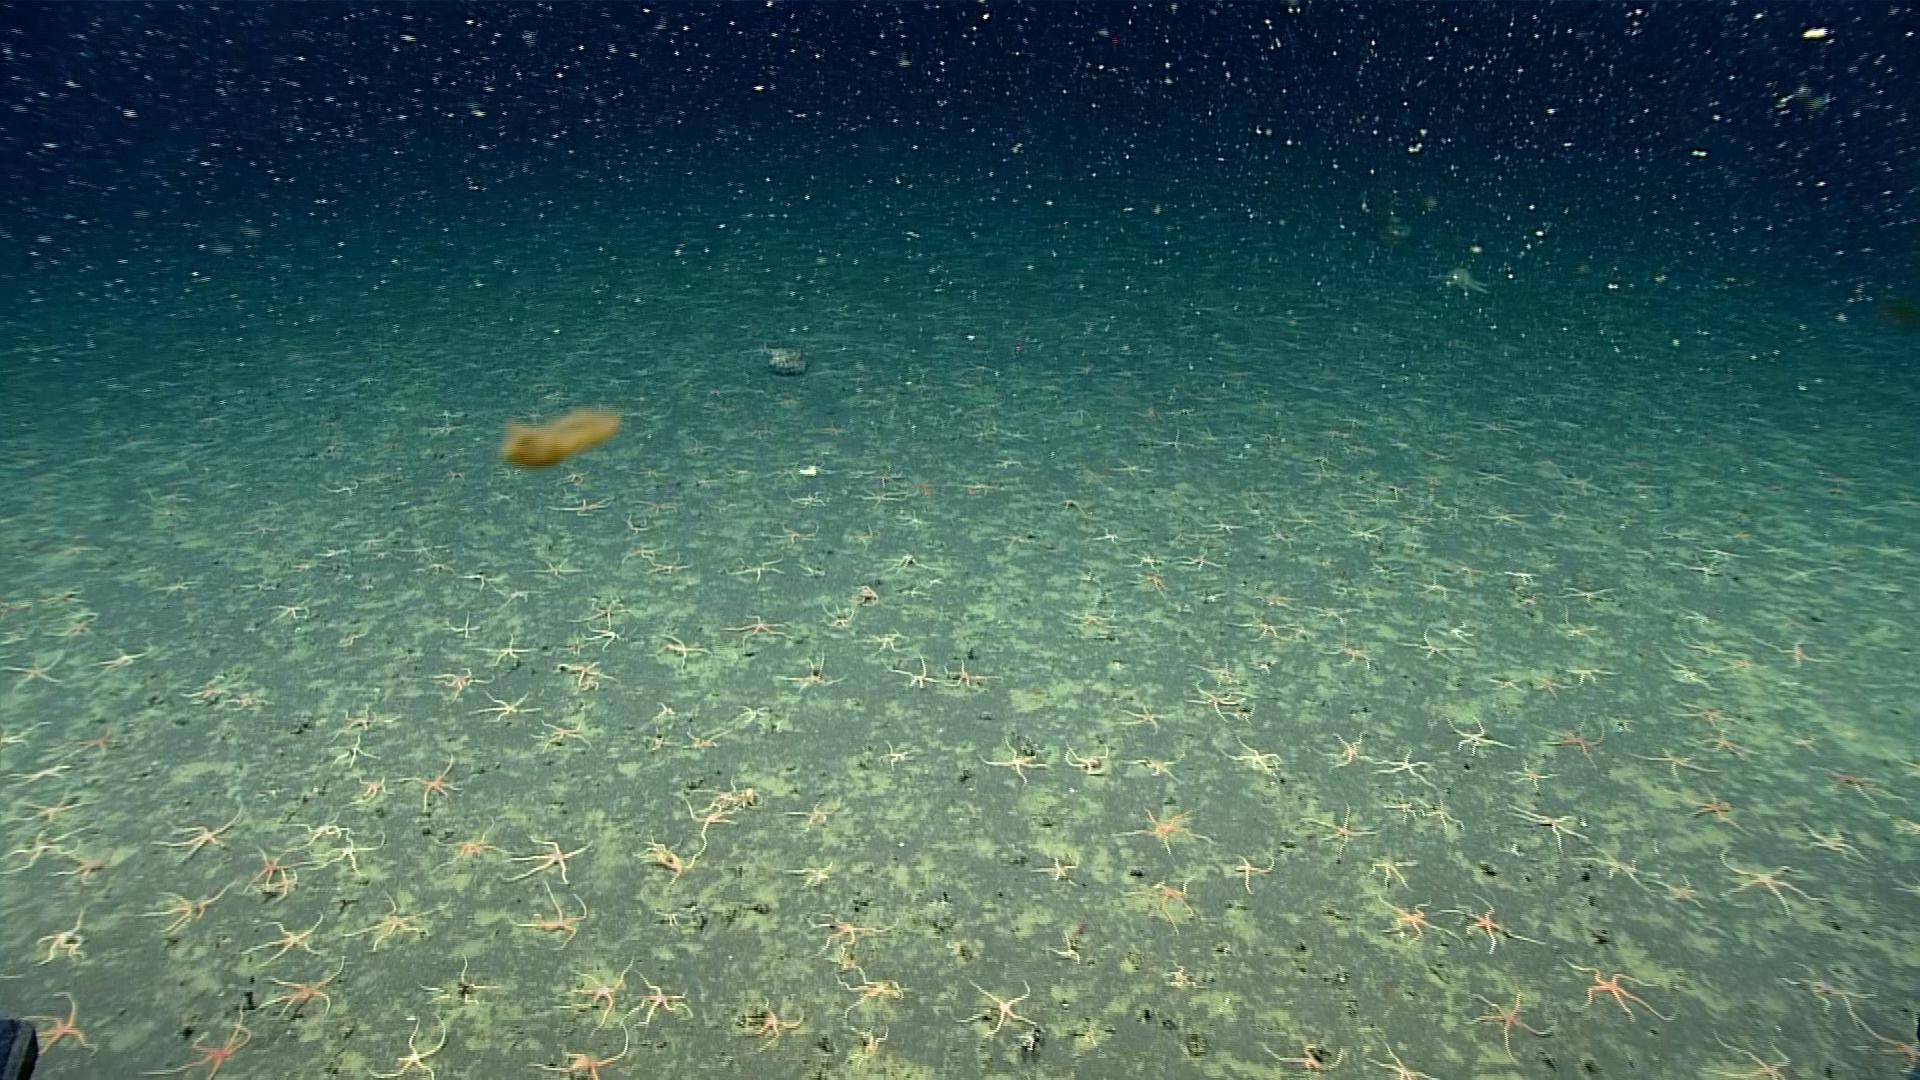brittle_sea_star: (148, 997, 253, 1079), (1714, 847, 1826, 916), (551, 951, 636, 1035), (1436, 894, 1543, 955), (136, 874, 236, 939), (1567, 959, 1665, 1022), (1465, 990, 1551, 1060), (340, 895, 451, 949), (257, 956, 347, 1019), (243, 909, 330, 972), (1106, 802, 1213, 853), (24, 986, 99, 1059), (509, 884, 587, 953), (948, 976, 1039, 1035), (1375, 893, 1465, 949), (376, 1010, 450, 1079), (534, 1027, 630, 1079), (152, 808, 239, 865), (1789, 973, 1880, 1027), (795, 907, 891, 956), (393, 753, 468, 815), (622, 968, 695, 1031), (4, 827, 95, 877), (502, 832, 591, 884), (1673, 781, 1754, 836), (1705, 1030, 1795, 1079), (1577, 837, 1658, 891), (1507, 803, 1593, 852), (427, 819, 502, 874), (417, 956, 500, 1006), (1298, 803, 1378, 853), (1142, 870, 1205, 934), (1845, 1015, 1919, 1069), (833, 967, 910, 1015), (678, 795, 741, 853), (736, 998, 803, 1051), (984, 735, 1051, 787), (629, 829, 692, 885), (1625, 744, 1718, 781), (34, 907, 94, 965), (1812, 760, 1890, 803), (4, 791, 91, 825), (241, 843, 295, 897), (310, 832, 384, 872), (1395, 624, 1466, 665), (1539, 719, 1604, 764), (1307, 729, 1374, 771), (1369, 742, 1436, 785), (1803, 822, 1866, 866), (1, 650, 70, 691), (1259, 1035, 1341, 1069), (1665, 695, 1741, 732), (1759, 634, 1834, 671), (1443, 715, 1511, 754), (771, 654, 844, 691), (1216, 736, 1286, 774), (723, 611, 794, 647), (1360, 849, 1423, 890), (1370, 1039, 1429, 1079), (476, 633, 542, 669), (1191, 680, 1244, 723), (653, 632, 711, 670), (471, 691, 538, 724), (1695, 727, 1756, 762), (533, 712, 592, 748), (703, 778, 764, 812), (553, 659, 617, 691), (844, 1019, 887, 1065), (427, 666, 491, 698), (1497, 758, 1557, 791), (293, 808, 340, 849), (1192, 653, 1249, 686), (1419, 796, 1466, 835), (1122, 749, 1184, 778), (570, 595, 626, 626), (939, 654, 989, 690), (1228, 613, 1288, 642), (1030, 853, 1083, 886), (1551, 613, 1602, 646), (53, 851, 108, 881), (891, 654, 936, 691), (1230, 856, 1275, 893), (786, 860, 836, 893), (1651, 872, 1701, 905), (728, 554, 782, 583), (1058, 604, 1117, 630), (92, 645, 145, 674), (1117, 700, 1164, 732), (327, 736, 376, 766), (1062, 742, 1108, 774), (578, 612, 628, 641), (1408, 575, 1460, 603), (182, 680, 233, 708), (1328, 636, 1369, 670), (1866, 804, 1919, 831), (758, 524, 816, 547), (11, 762, 75, 783), (336, 705, 388, 732), (545, 496, 612, 516), (1124, 566, 1174, 592), (1124, 547, 1170, 575), (782, 803, 832, 828), (1559, 665, 1618, 686), (491, 587, 543, 611), (876, 741, 918, 770), (1873, 866, 1919, 891), (862, 629, 906, 655), (74, 727, 113, 756), (1563, 583, 1611, 605), (1048, 930, 1081, 963), (885, 545, 923, 571), (676, 728, 721, 750), (1787, 723, 1820, 753), (1085, 521, 1125, 546), (1440, 615, 1476, 642), (1677, 560, 1724, 582), (270, 596, 310, 620), (1204, 514, 1245, 537), (1178, 547, 1217, 570), (820, 601, 853, 628), (458, 570, 504, 588), (1530, 671, 1565, 695), (447, 613, 477, 641), (356, 774, 388, 800), (1383, 794, 1415, 820), (152, 579, 199, 596), (852, 584, 886, 608), (620, 542, 661, 562), (232, 690, 270, 711), (1869, 786, 1907, 804), (890, 510, 931, 527), (1342, 525, 1385, 541), (649, 699, 676, 721), (642, 732, 667, 750)
